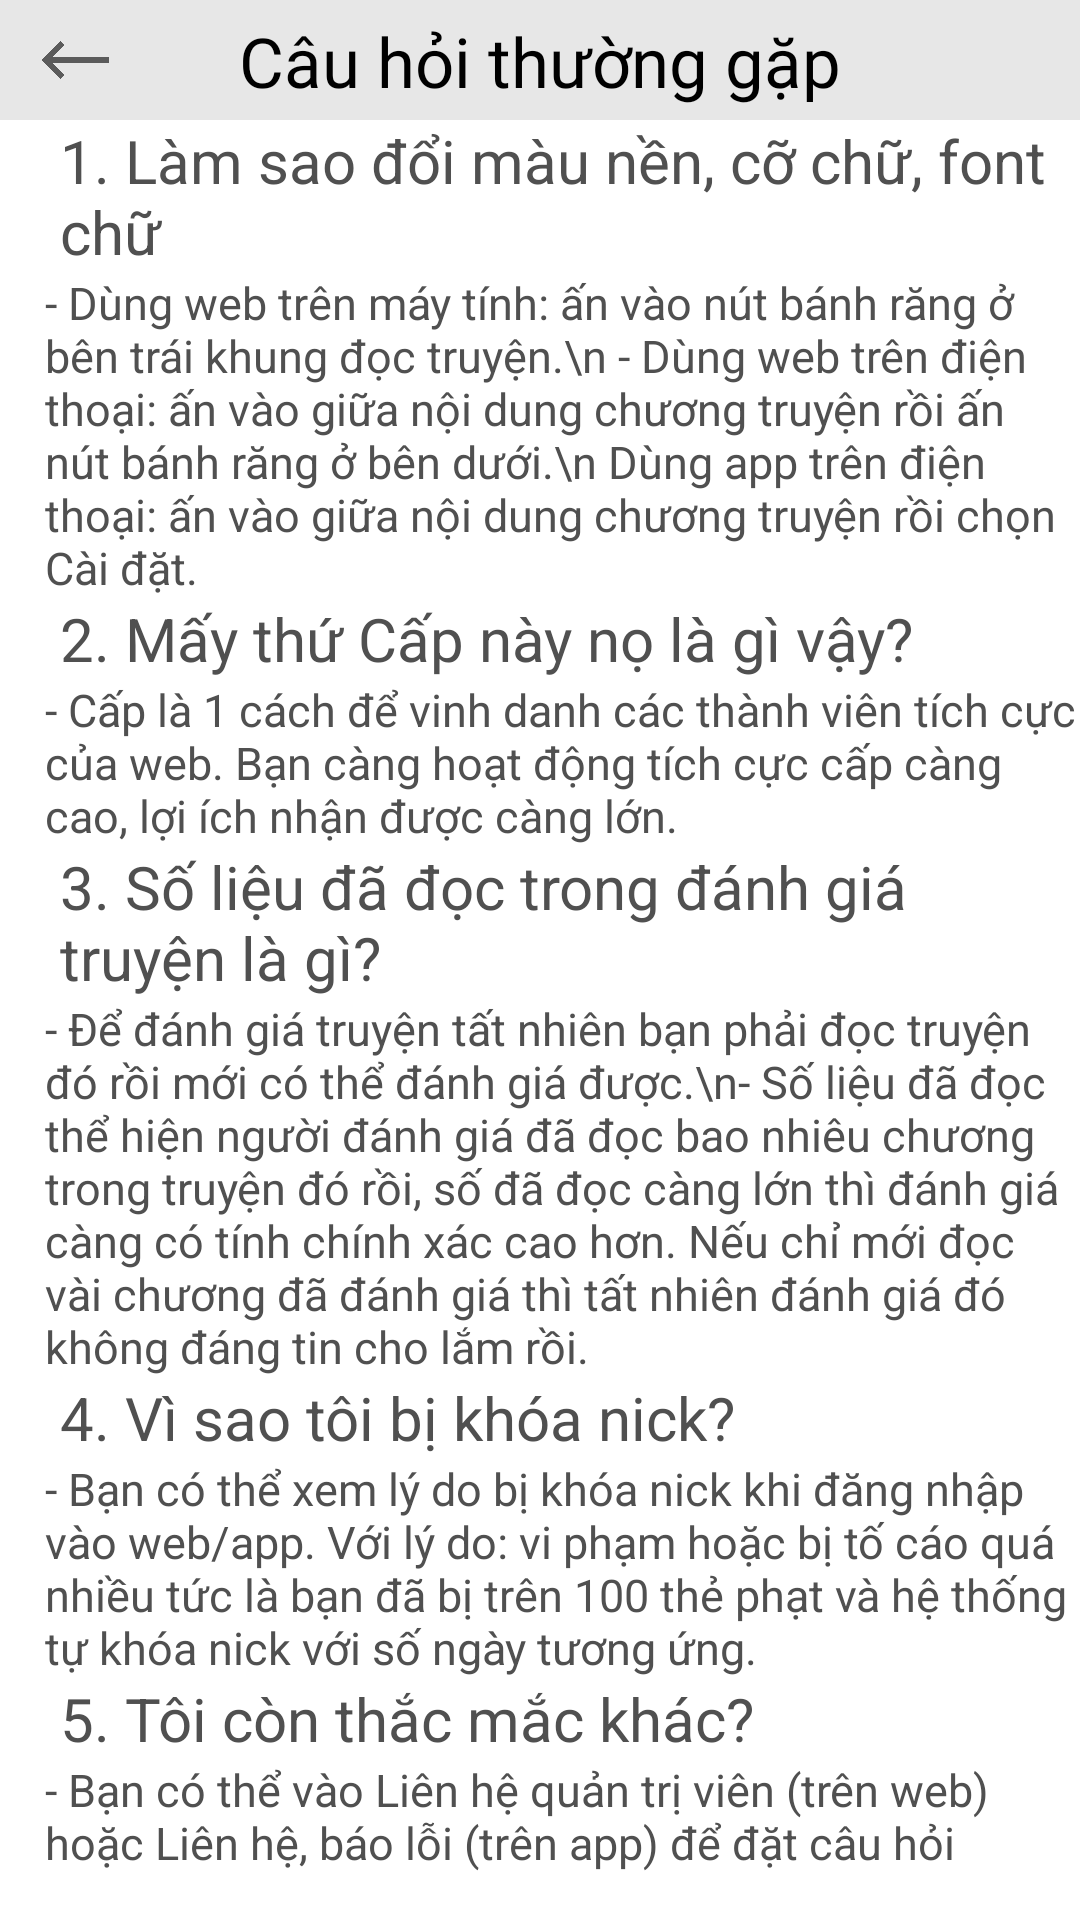

Screen size 1080 × 1920. Icon name, then its box in pixels as (x1, y1, x2, y2):
back: (42, 41, 109, 79)
